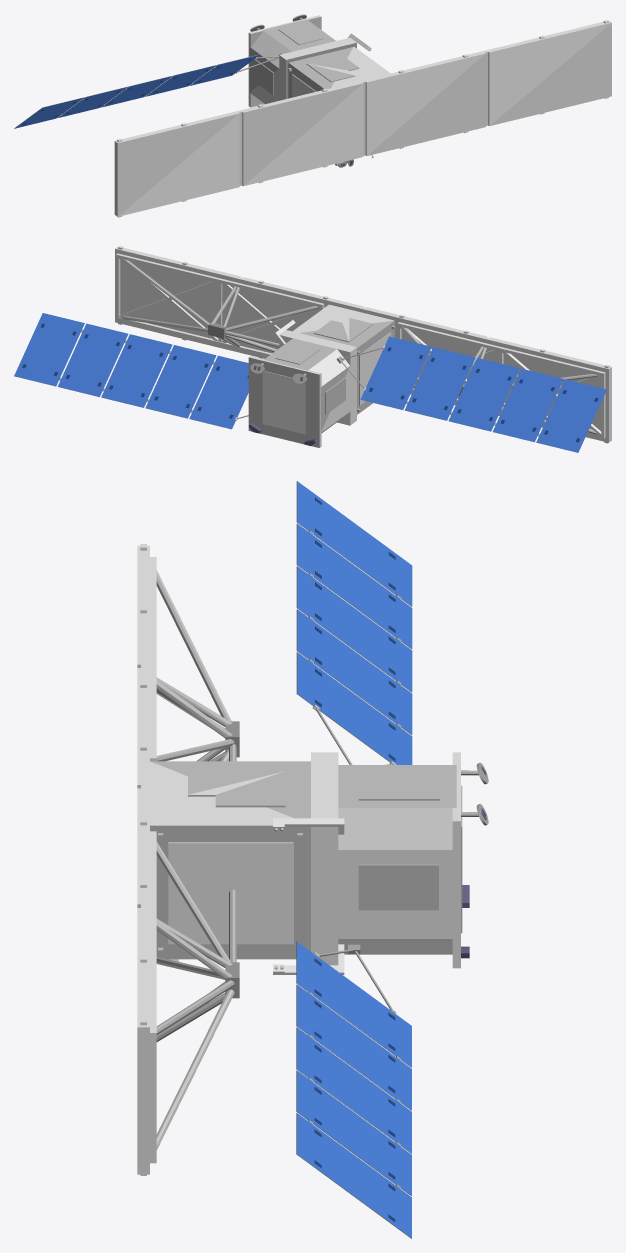
The model's file is radarsat1.glb.
3 renders of one model, top to bottom at view 1: azimuth 30°, elevation 25°; view 2: azimuth 150°, elevation 25°; view 3: azimuth 270°, elevation 25°, orthographic. The views are drawn at different scales.
Visible parts, largest first — view 1: body, solar-panel; view 2: solar-panel, body; view 3: solar-panel, body.
Part boxes in pixels (x1,y1,x2,y2): body: (114,15,611,217); solar-panel: (14,14,373,167); solar-panel: (14,313,606,452); body: (115,246,611,447); solar-panel: (150,481,488,1238); body: (137,544,460,1175).
Size of the model in its own units: 160 by 28.11 by 43.18.
